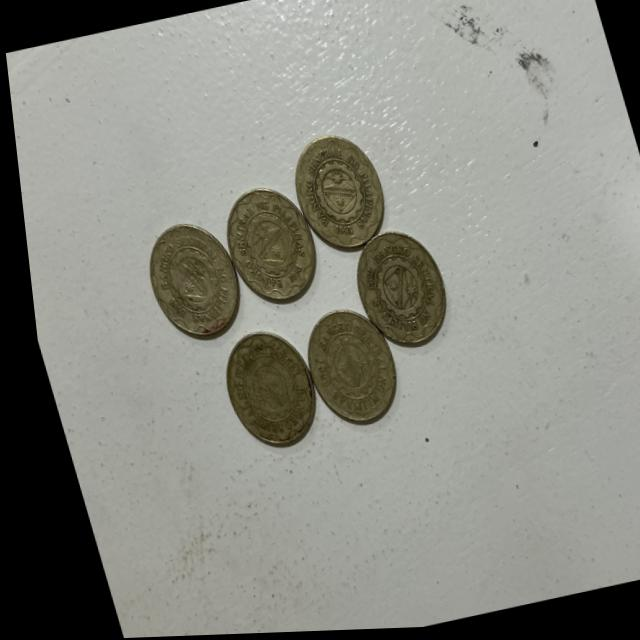5_Old_Back: (275, 119, 394, 262), (203, 178, 320, 315), (286, 303, 400, 437), (337, 228, 447, 355), (205, 332, 314, 455), (132, 225, 243, 343)
